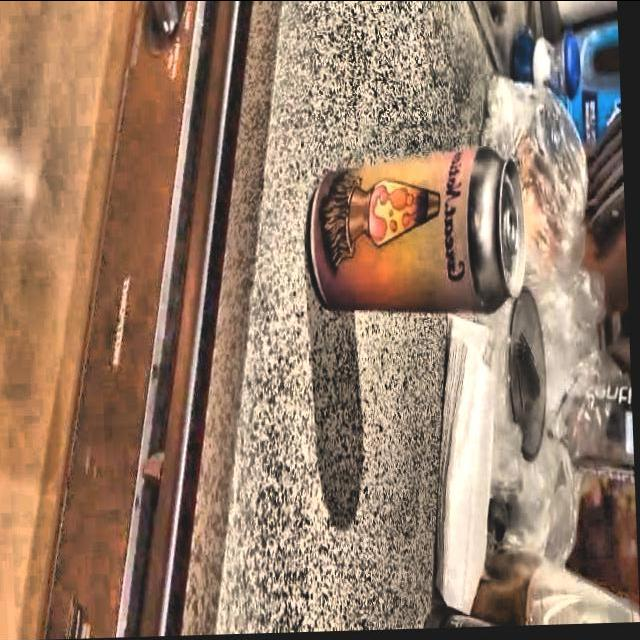Aluminum Can: (300, 144, 540, 328)
